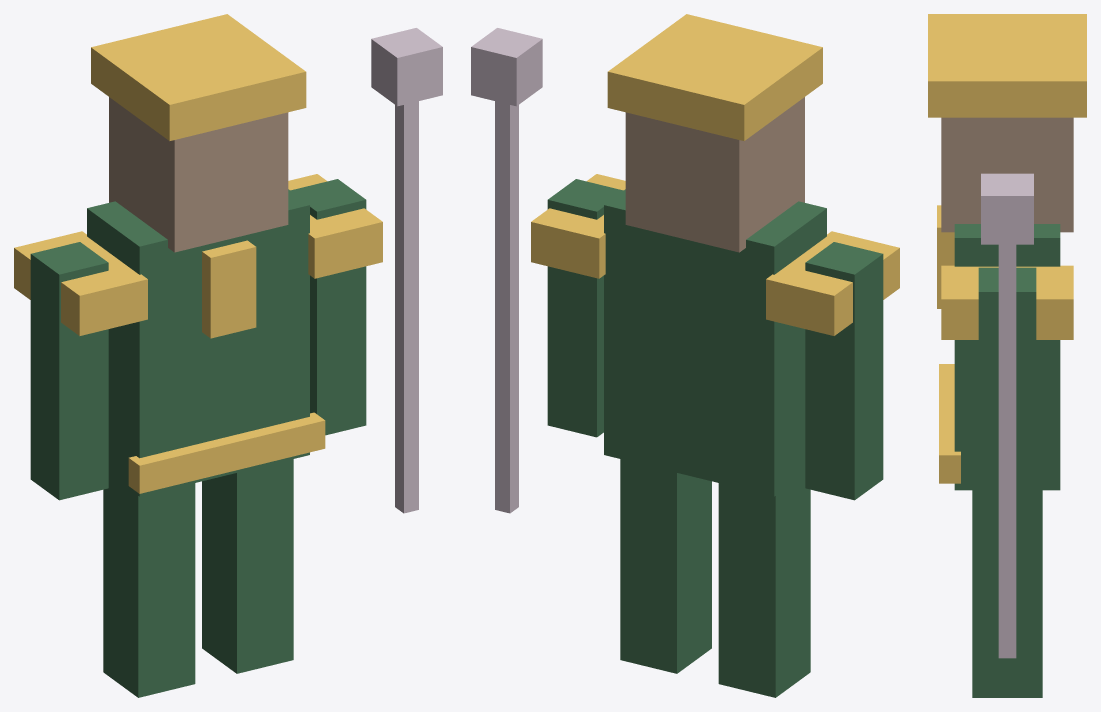
File: 09_ossa_emberkin_smith_near_riddim.glb
The picture shows the model from 3 angles, left to right: view 1: azimuth 30°, elevation 25°; view 2: azimuth 150°, elevation 25°; view 3: azimuth 270°, elevation 25°; orthographic projection.
Visible parts, largest first — view 1: Ossa Emberkin, Smith near Riddim; view 2: Ossa Emberkin, Smith near Riddim; view 3: Ossa Emberkin, Smith near Riddim.
Boxes of the visible parts, bbox=[...] form: Ossa Emberkin, Smith near Riddim: bbox=[14, 14, 442, 697]; Ossa Emberkin, Smith near Riddim: bbox=[471, 14, 899, 697]; Ossa Emberkin, Smith near Riddim: bbox=[928, 14, 1086, 697].
Size of the model in its own units: 0.9855 by 1.48 by 0.3495.
